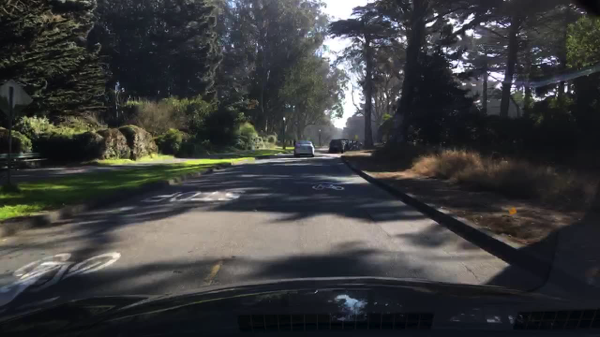car: (294, 140, 315, 156), (329, 139, 344, 153), (341, 139, 349, 151), (310, 139, 317, 147), (348, 140, 354, 149), (353, 140, 359, 148)
traffic light: (248, 101, 256, 109)
traffic sign: (1, 81, 35, 121)
